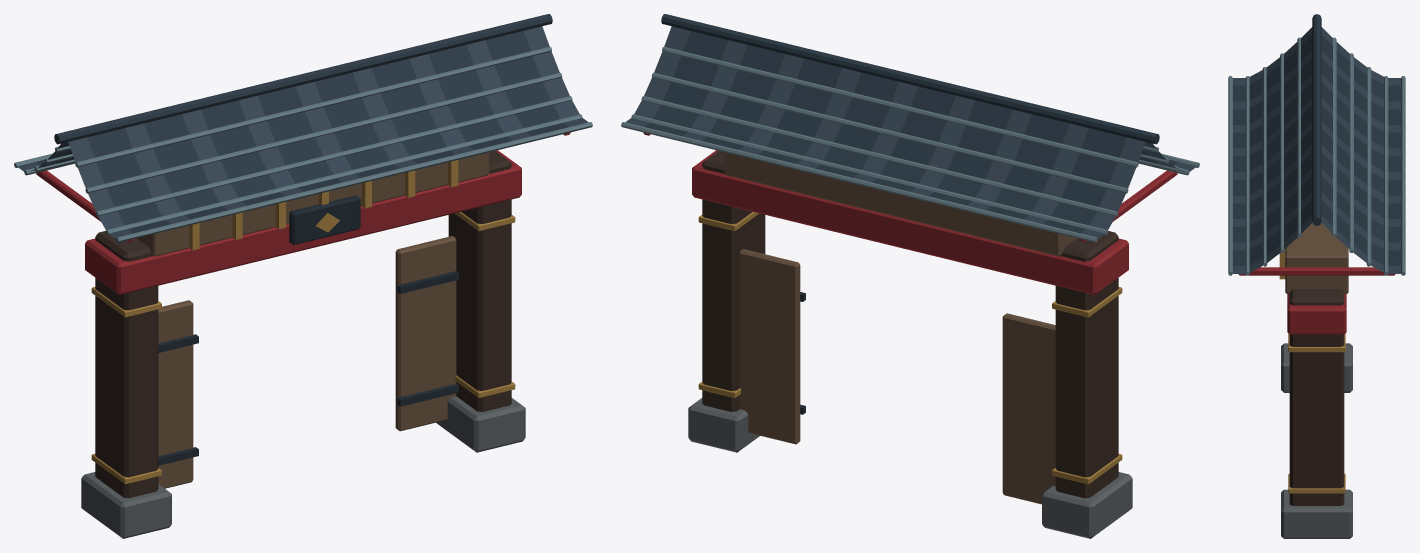
File: gate.glb
3 views of the same model, side by side, from view 1: azimuth 30°, elevation 25°; view 2: azimuth 150°, elevation 25°; view 3: azimuth 270°, elevation 25° (orthographic). The views are drawn at different scales.
Parts seen in each view (by area): view 1: gate; view 2: gate; view 3: gate.
Boxes of the visible parts, <box> form: gate: <box>14,14,592,538</box>; gate: <box>621,14,1199,538</box>; gate: <box>1228,14,1405,538</box>.
Size of the model in its own units: 11.44 by 8.91 by 4.21.
